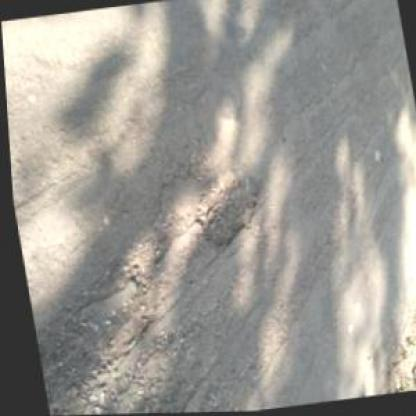pothole: (182, 165, 266, 254)
